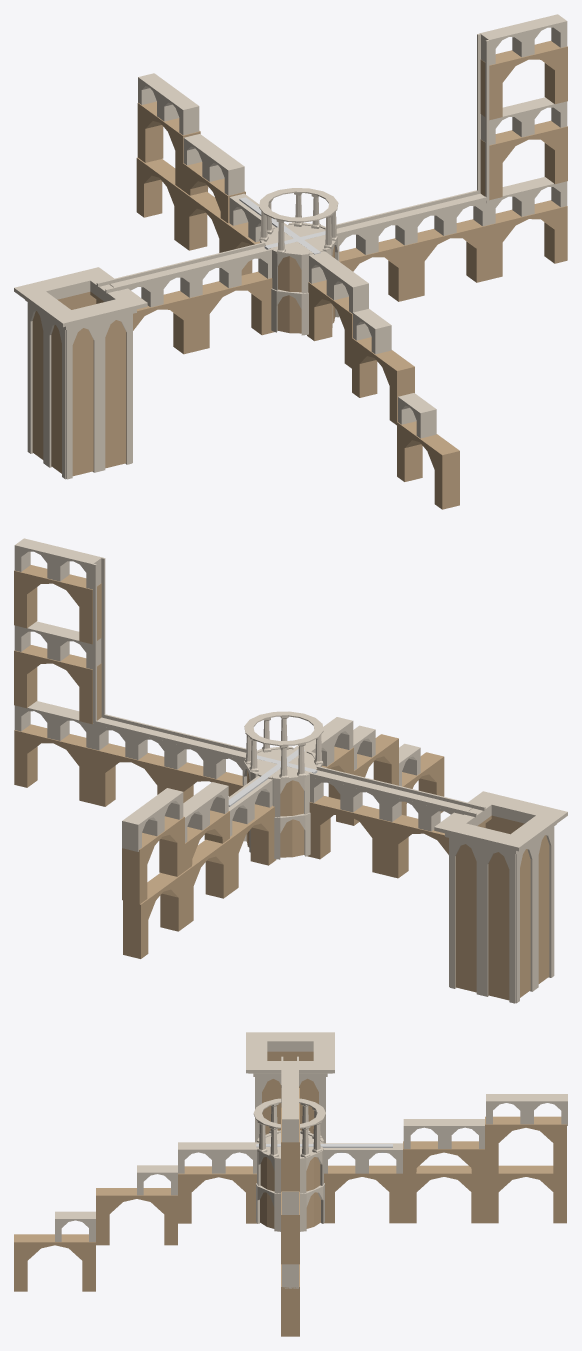
File: RESPAWN NEW.fbx
3 views of the same model, one above another, from view 1: azimuth 30°, elevation 25°; view 2: azimuth 150°, elevation 25°; view 3: azimuth 270°, elevation 25° (orthographic). The views are drawn at different scales.
Parts seen in each view (by area): view 1: assets.005, Cube.088, Cube.082, Cube.096, Cube.090, Cube.091, Cube.086, Cube.097; view 2: assets.005, Cube.088, Cube.082, Cube.096, Cube.091, Cube.086, Cube.090, Cube.097; view 3: assets.005.
Part boxes in pixels (<box>): assets.005: <box>14,14,567,509</box>; Cube.088: <box>105,248,273,293</box>; Cube.082: <box>96,242,265,286</box>; Cube.096: <box>485,40,489,203</box>; Cube.090: <box>336,196,486,236</box>; Cube.091: <box>324,190,477,229</box>; Cube.086: <box>239,197,325,254</box>; Cube.097: <box>477,33,480,193</box>; assets.005: <box>14,538,567,1003</box>; Cube.088: <box>316,766,485,810</box>; Cube.082: <box>308,772,476,817</box>; Cube.096: <box>101,557,105,714</box>; Cube.091: <box>93,720,245,760</box>; Cube.086: <box>228,749,317,806</box>; Cube.090: <box>101,714,257,752</box>; Cube.097: <box>92,564,96,721</box>; assets.005: <box>14,1032,567,1336</box>.
Bounding box in the file's own units: 16109 × 9450 × 16229.
